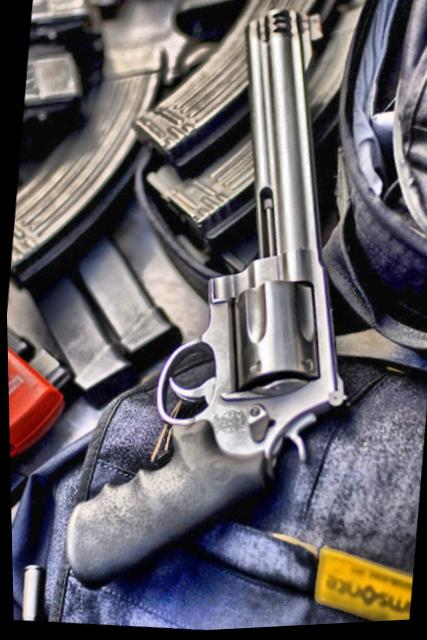pistol: (45, 0, 388, 613)
